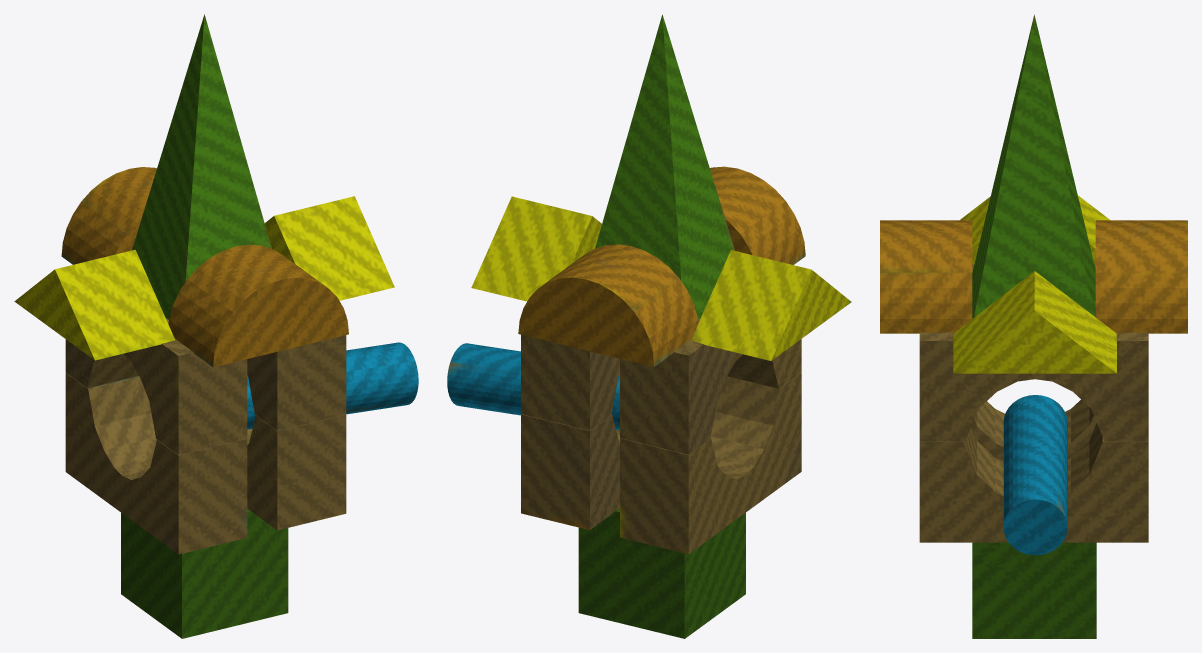
The model's file is TowerTopHalf.fbx.
3 renders of one model, left to right at view 1: azimuth 30°, elevation 25°; view 2: azimuth 150°, elevation 25°; view 3: azimuth 270°, elevation 25°, orthographic.
Parts seen in each view (by area): view 1: Cube.001; view 2: Cube.001; view 3: Cube.001.
Part boxes in pixels (left/top/right/bottom): Cube.001: left=14, top=14, right=418, bottom=638; Cube.001: left=447, top=14, right=851, bottom=638; Cube.001: left=880, top=14, right=1187, bottom=638.
Bounding box in the file's own units: 516 × 829 × 386.
Materials: 1 (1 with a texture image).
